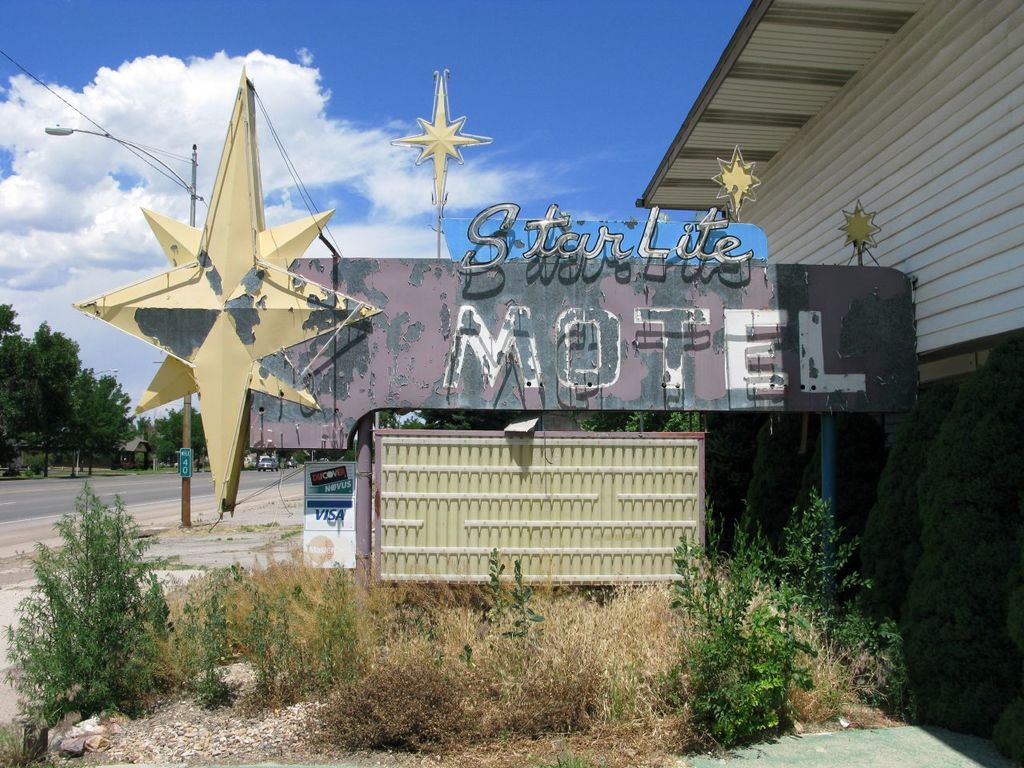Tree: (0, 304, 207, 477)
